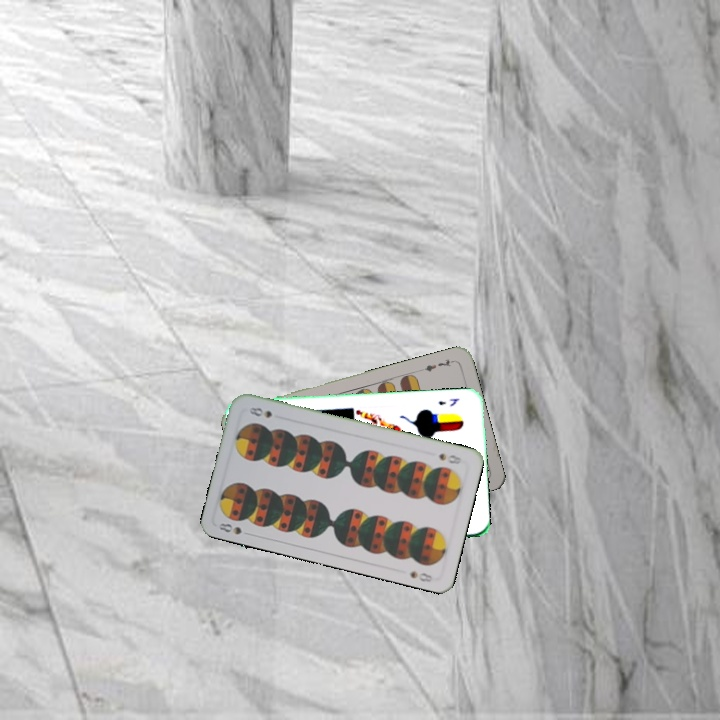E7: (417, 355, 457, 374)
EK: (435, 394, 462, 409)
S8: (215, 519, 255, 538), (435, 449, 464, 467)
